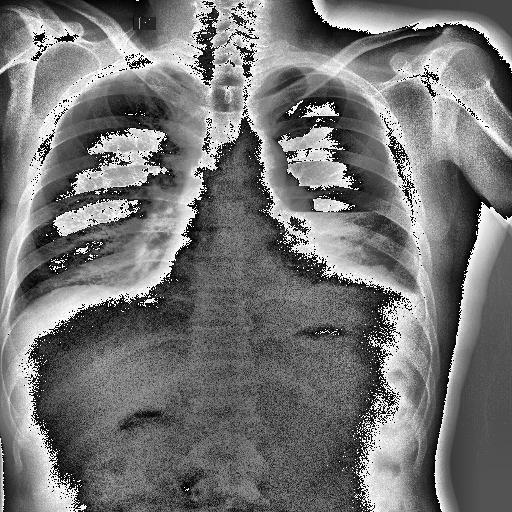10- Pleural effusion: (290, 204, 424, 316), (270, 214, 428, 304), (317, 284, 427, 308)
12- Pneumothorax: (269, 63, 415, 212), (274, 62, 406, 196), (264, 68, 391, 170)
7- Lung Opacity: (306, 175, 416, 289), (287, 208, 418, 292)
